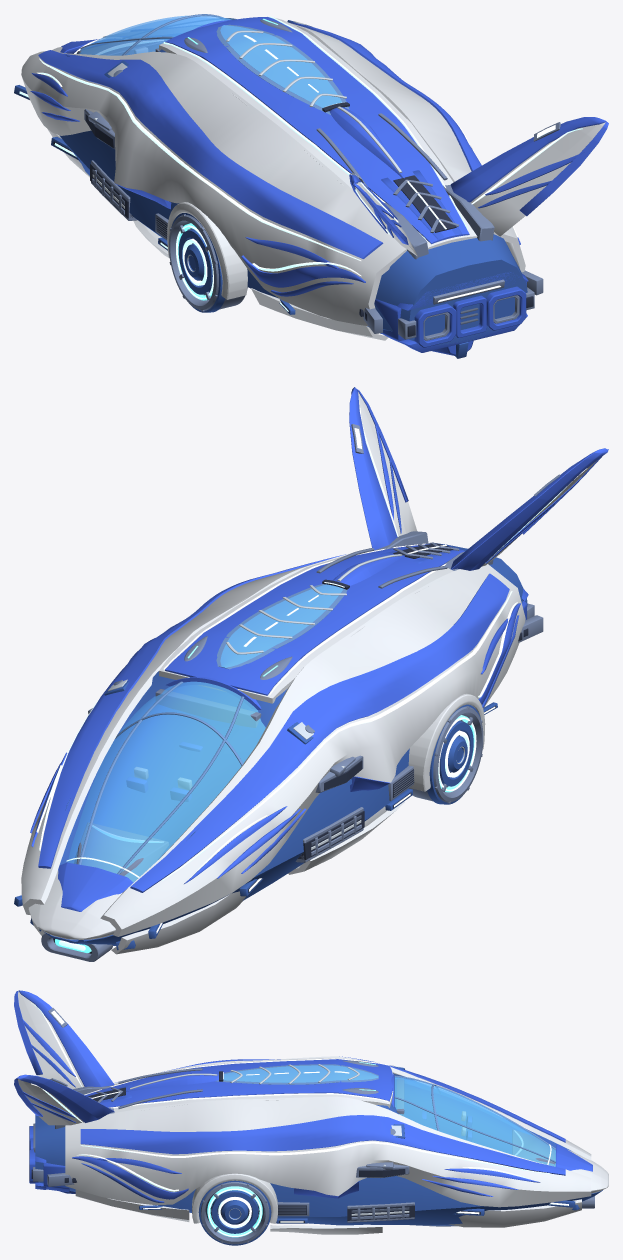
File: deepseek_explorer.glb
3 views of the same model, one above another, from view 1: azimuth 30°, elevation 25°; view 2: azimuth 150°, elevation 25°; view 3: azimuth 270°, elevation 25° (orthographic). The views are drawn at different scales.
Visible parts, largest first — view 1: Armor_UnifiedWhiteFlank_Port, Dorsal_DeepSeekBlue_WhaleMantle, Armor_DeepSeekBlueWhaleWave_Port, Core_OceanBlue_Fuselage, Armor_UnifiedWhiteFlank_Stbd, Dorsal_AtriumMetallicFrame, Dorsal_SapphireSpineAtrium, VTail_MainWhiteBlade_Stbd, Dorsal_PearlWhite_BaseCarapace, VTail_DeepSeekBlueLeadingSweep_Stbd, Canopy_SapphireWhaleGlass, Armor_TurbineWheelArch_Port (+26 smaller); view 2: Armor_UnifiedWhiteFlank_Port, Core_OceanBlue_Fuselage, Canopy_SapphireWhaleGlass, Armor_DeepSeekBlueWhaleWave_Port, Dorsal_DeepSeekBlue_WhaleMantle, Armor_UnifiedWhiteFlank_Stbd, Armor_DeepSeekBlueWhaleWave_Stbd, Dorsal_AtriumMetallicFrame, Dorsal_SapphireSpineAtrium, VTail_DeepSeekBlueLeadingSweep_Port, Armor_BowChiselProwCap, Dorsal_PearlWhite_BaseCarapace (+14 smaller); view 3: Armor_UnifiedWhiteFlank_Stbd, Core_OceanBlue_Fuselage, Armor_DeepSeekBlueWhaleWave_Stbd, Canopy_SapphireWhaleGlass, Dorsal_DeepSeekBlue_WhaleMantle, Dorsal_AtriumMetallicFrame, VTail_MainWhiteBlade_Port, Dorsal_SapphireSpineAtrium, VTail_DeepSeekBlueLeadingSweep_Port, Armor_FwdJawPlate_Stbd, VTail_DeepSeekBlueLeadingSweep_Stbd, Dorsal_PearlWhite_BaseCarapace (+28 smaller).
Boxes of the visible parts, bbox=[...] form: Armor_UnifiedWhiteFlank_Port: bbox=[21, 51, 406, 326]; Dorsal_DeepSeekBlue_WhaleMantle: bbox=[165, 17, 469, 244]; Armor_DeepSeekBlueWhaleWave_Port: bbox=[38, 50, 383, 258]; Core_OceanBlue_Fuselage: bbox=[59, 39, 527, 345]; Armor_UnifiedWhiteFlank_Stbd: bbox=[103, 23, 525, 272]; Dorsal_AtriumMetallicFrame: bbox=[216, 24, 349, 114]; Dorsal_SapphireSpineAtrium: bbox=[220, 25, 342, 107]; VTail_MainWhiteBlade_Stbd: bbox=[470, 122, 605, 236]; Dorsal_PearlWhite_BaseCarapace: bbox=[159, 18, 477, 249]; VTail_DeepSeekBlueLeadingSweep_Stbd: bbox=[450, 117, 607, 202]; Canopy_SapphireWhaleGlass: bbox=[76, 15, 233, 55]; Armor_TurbineWheelArch_Port: bbox=[167, 202, 247, 299]; Armor_UnifiedWhiteFlank_Port: bbox=[100, 564, 525, 936]; Core_OceanBlue_Fuselage: bbox=[43, 543, 527, 945]; Canopy_SapphireWhaleGlass: bbox=[68, 681, 265, 882]; Armor_DeepSeekBlueWhaleWave_Port: bbox=[130, 573, 509, 892]; Dorsal_DeepSeekBlue_WhaleMantle: bbox=[165, 544, 464, 695]; Armor_UnifiedWhiteFlank_Stbd: bbox=[21, 552, 352, 914]; Armor_DeepSeekBlueWhaleWave_Stbd: bbox=[38, 554, 345, 868]; Dorsal_AtriumMetallicFrame: bbox=[216, 584, 347, 669]; Dorsal_SapphireSpineAtrium: bbox=[220, 584, 343, 667]; VTail_DeepSeekBlueLeadingSweep_Port: bbox=[450, 448, 607, 570]; Armor_BowChiselProwCap: bbox=[28, 870, 123, 939]; Dorsal_PearlWhite_BaseCarapace: bbox=[159, 555, 453, 703]; Armor_UnifiedWhiteFlank_Stbd: bbox=[65, 1096, 591, 1207]; Core_OceanBlue_Fuselage: bbox=[35, 1073, 602, 1225]; Armor_DeepSeekBlueWhaleWave_Stbd: bbox=[80, 1115, 565, 1175]; Canopy_SapphireWhaleGlass: bbox=[394, 1076, 555, 1166]; Dorsal_DeepSeekBlue_WhaleMantle: bbox=[85, 1059, 392, 1107]; Dorsal_AtriumMetallicFrame: bbox=[215, 1064, 378, 1084]; VTail_MainWhiteBlade_Port: bbox=[18, 991, 84, 1089]; Dorsal_SapphireSpineAtrium: bbox=[223, 1065, 378, 1082]; VTail_DeepSeekBlueLeadingSweep_Port: bbox=[18, 990, 114, 1086]; Armor_FwdJawPlate_Stbd: bbox=[449, 1199, 581, 1227]; VTail_DeepSeekBlueLeadingSweep_Stbd: bbox=[18, 1074, 114, 1122]; Dorsal_PearlWhite_BaseCarapace: bbox=[113, 1058, 393, 1112].
Size of the model in its own units: 7.6 by 6.88 by 20.16.
14 materials, 6 textured.
